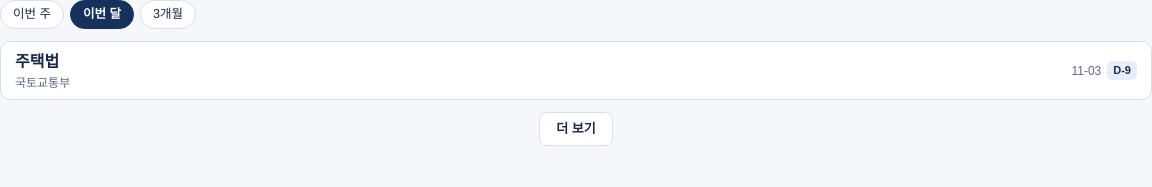
it: LawListView › 더 불러오기 실패 — 안내와 다시 시도
This screenshot has width=1152, height=187.
What coordinates should you click on to do the following:
click the button "더 보기"
I would click on:
 (576, 129)
Its box is x1=539 y1=112 x2=613 y2=146.
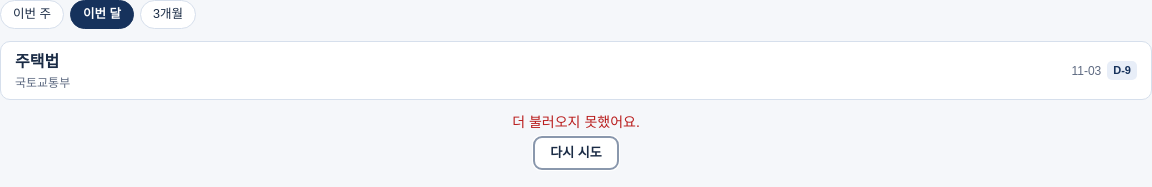
Result: the message shows "더 불러오지 못했어요" at x1=512 y1=114 x2=640 y2=130
Result: the button "다시 시도" is shown at x1=533 y1=136 x2=619 y2=170
